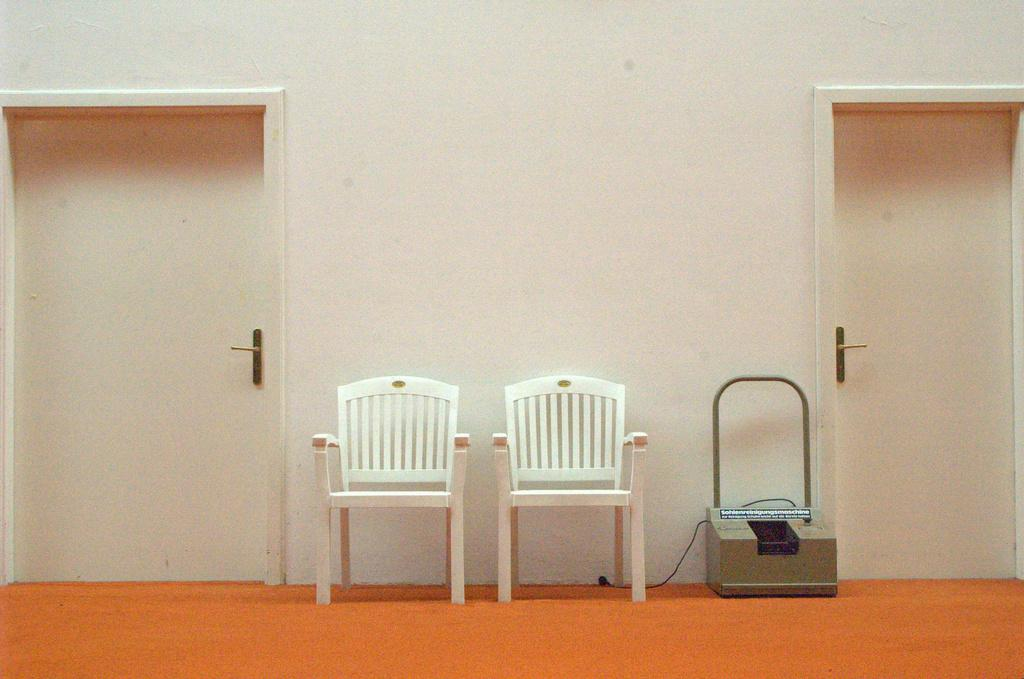Chair: (486, 372, 650, 604), (314, 373, 465, 607)
